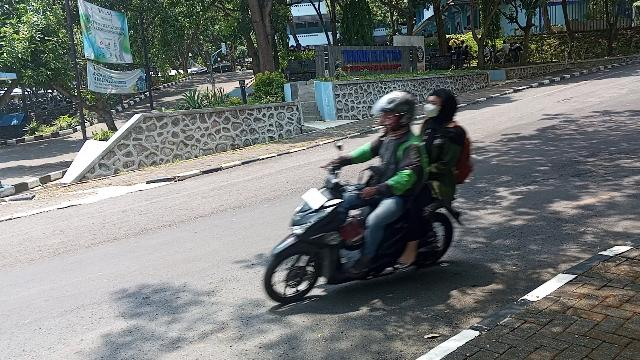helm: (373, 92, 416, 130)
motor: (266, 178, 465, 304)
non-helm: (424, 91, 458, 120)
